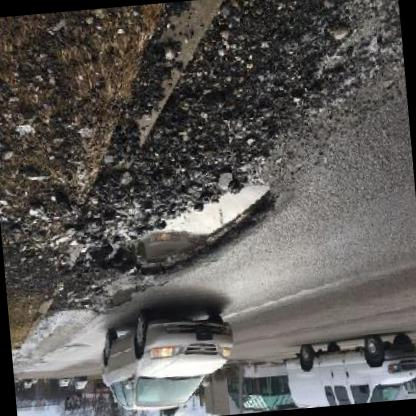pothole: (115, 178, 283, 284), (99, 283, 148, 314)
